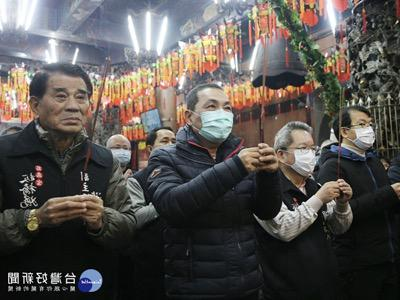with_mask: (190, 97, 233, 142), (284, 140, 317, 176), (345, 118, 376, 151), (109, 142, 131, 165)
without_mask: (34, 86, 90, 135)
